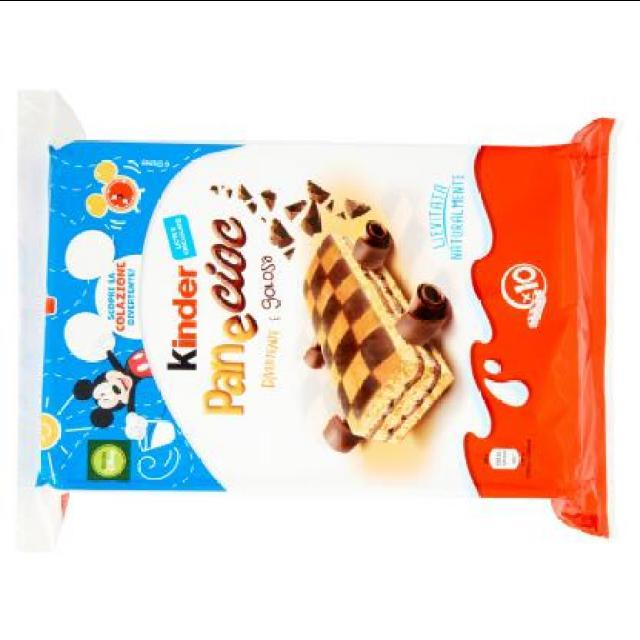Merendine: (11, 106, 624, 554)
Merendine packaged: (300, 230, 458, 442)
